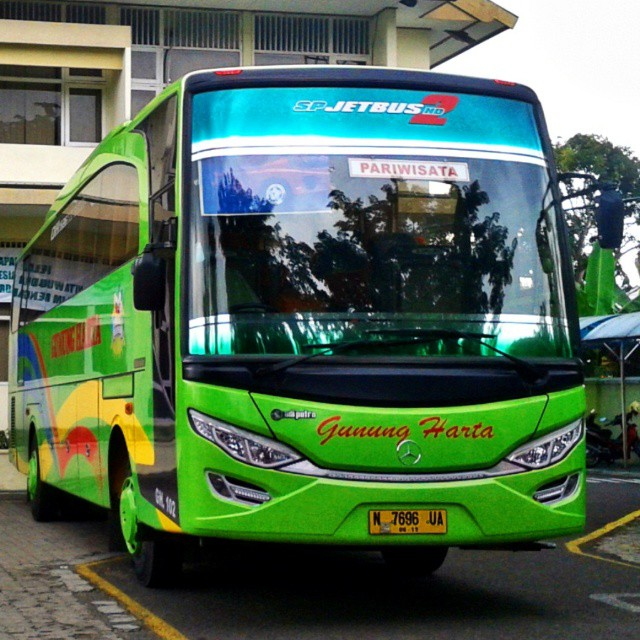plate: (370, 509, 445, 535)
